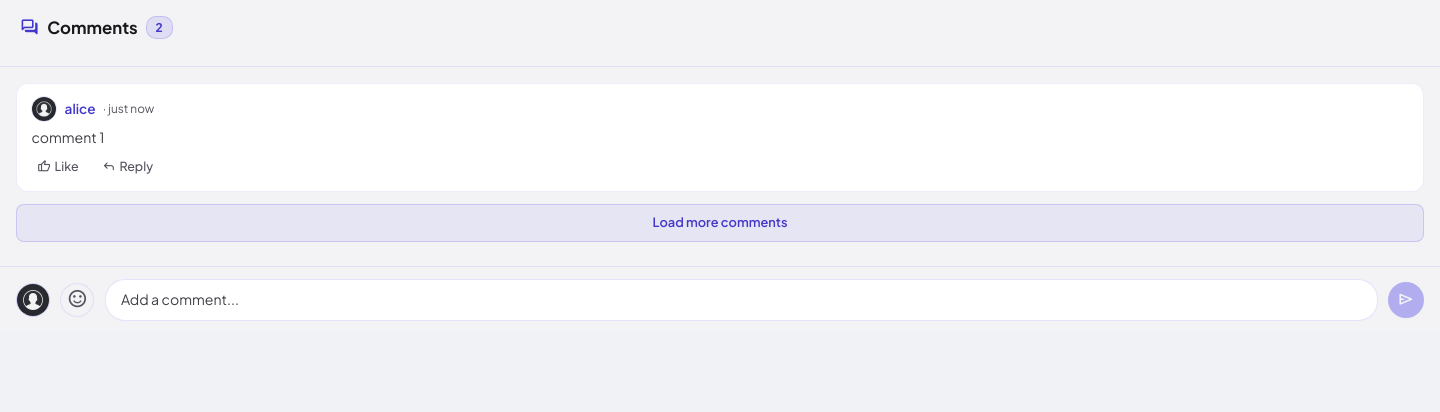
Test: PostCommentsPanel › paginates: 'Load more comments' fetches the next page with the cursor
Click the button "Load more comments".
click(720, 223)  # box [16,204,1424,242]
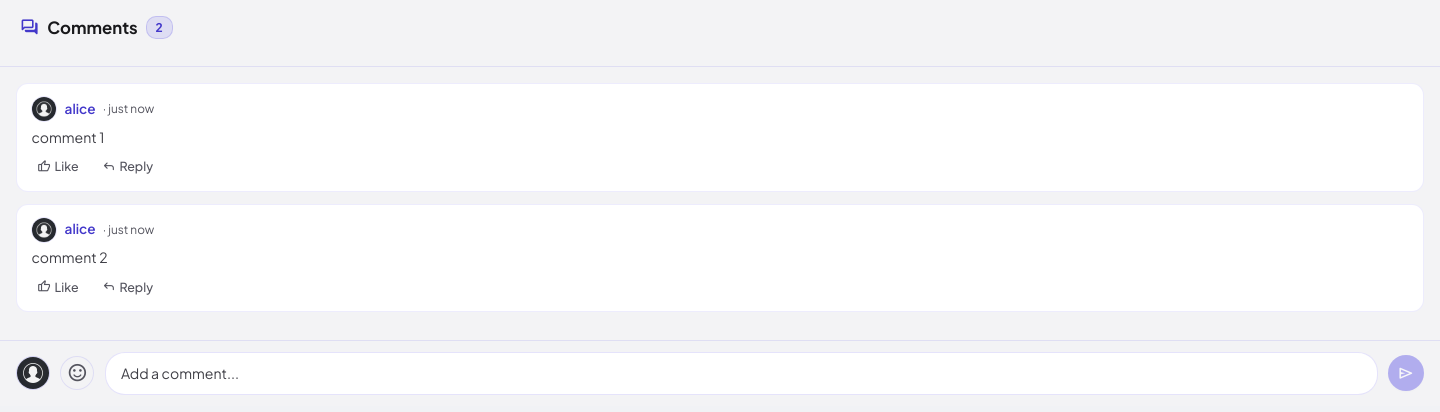
Result: the text "comment 2" is shown at [31,248,108,266]
Result: the button "Load more comments" is gone
